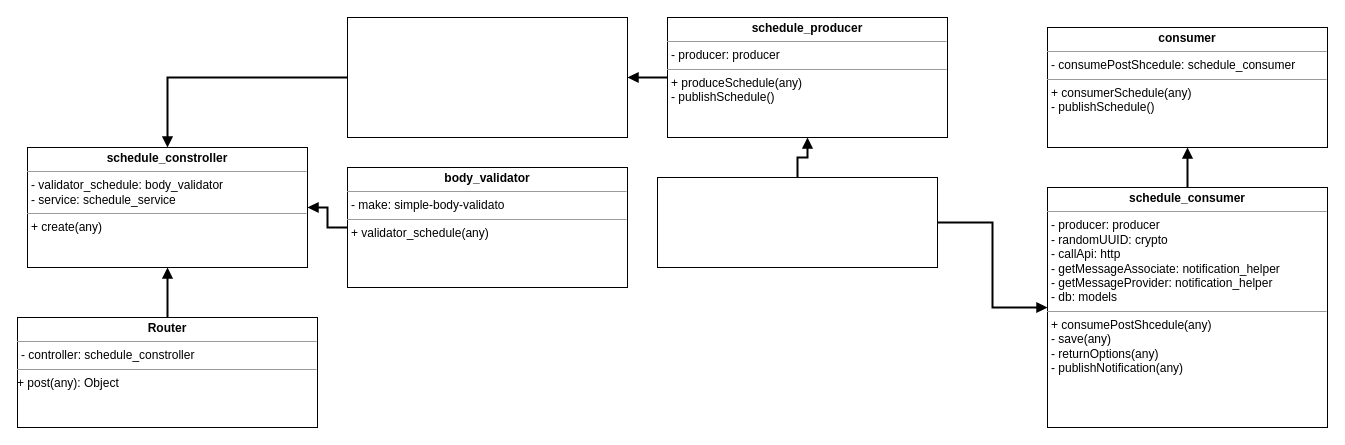
Some shapes in this 1345 by 445 pixel diagram are drawn without their labels. Each missing label, with the box of its shape:
producer - producer: kafka + produce(any): (656, 176, 938, 268)
schedule_service - produceSchedule: schedule_producer + postSchedule(any): (346, 16, 628, 138)
